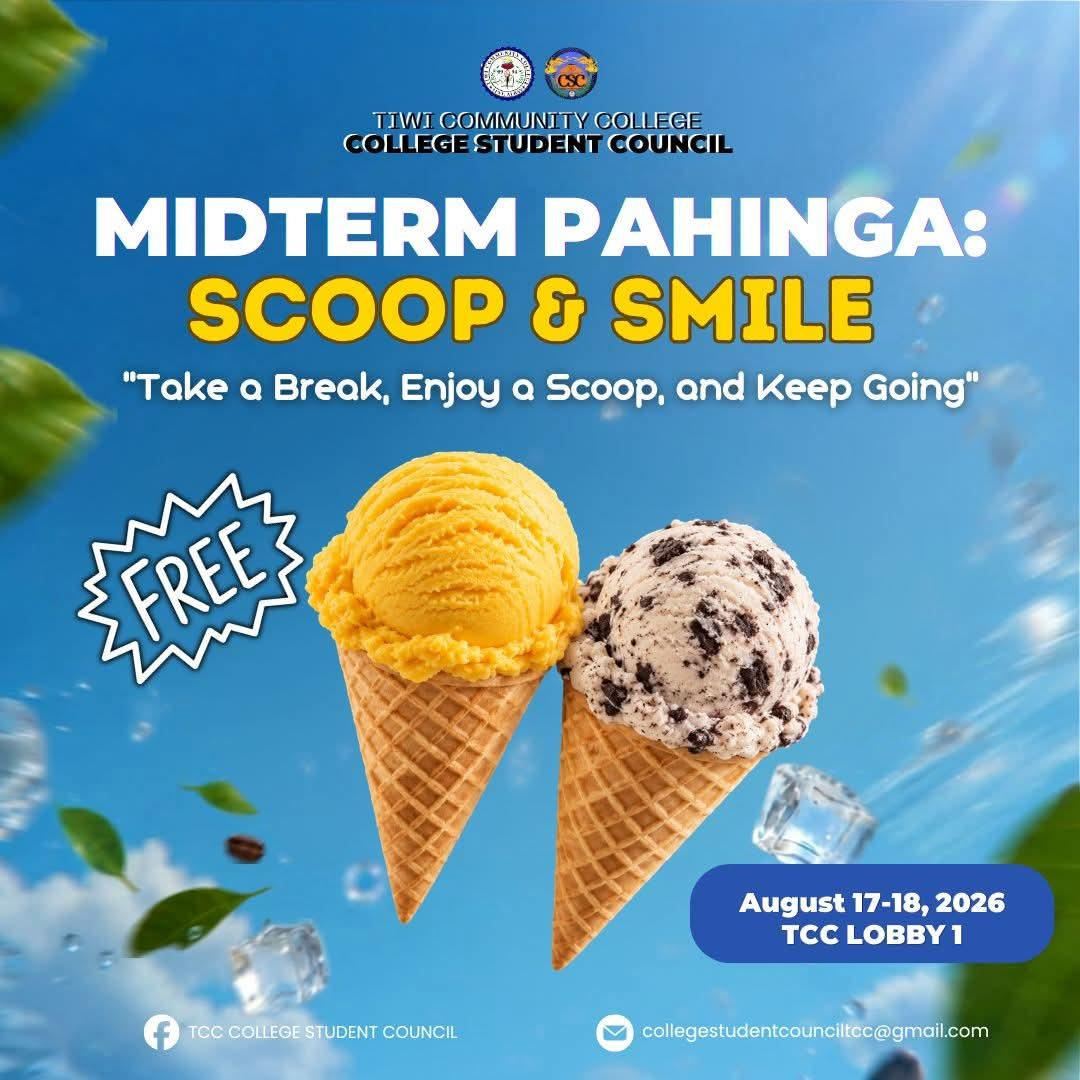embellishment: (62, 437, 846, 985)
logo: (538, 44, 604, 102), (477, 44, 538, 103), (593, 1010, 638, 1056), (141, 1009, 184, 1054)
text: (86, 185, 1000, 419), (338, 104, 741, 159), (731, 885, 1015, 951), (638, 1015, 997, 1043), (185, 1019, 464, 1045)
underlay: (0, 0, 1079, 1079)
